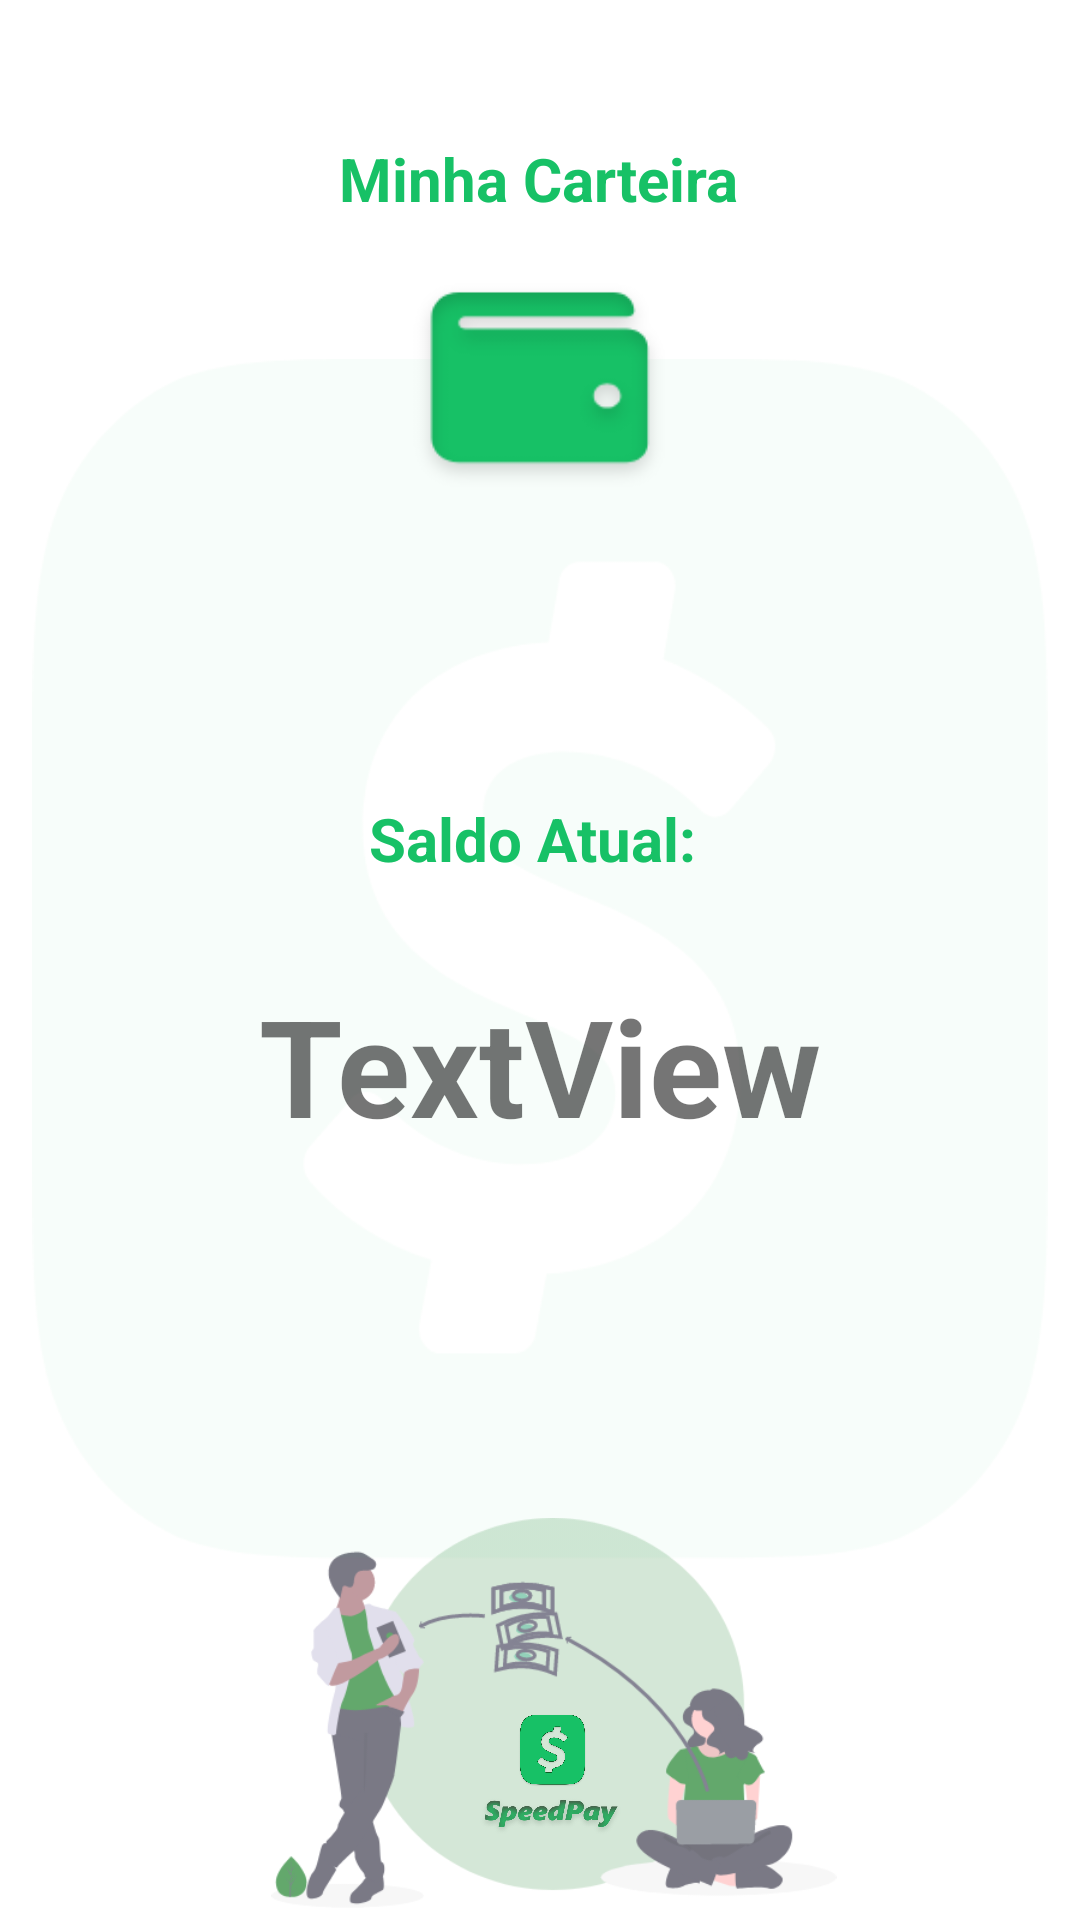

Where to tap for icons on this 1080 × 1920 app screen, as [x,y]:
carteiraverde: [540,380]
